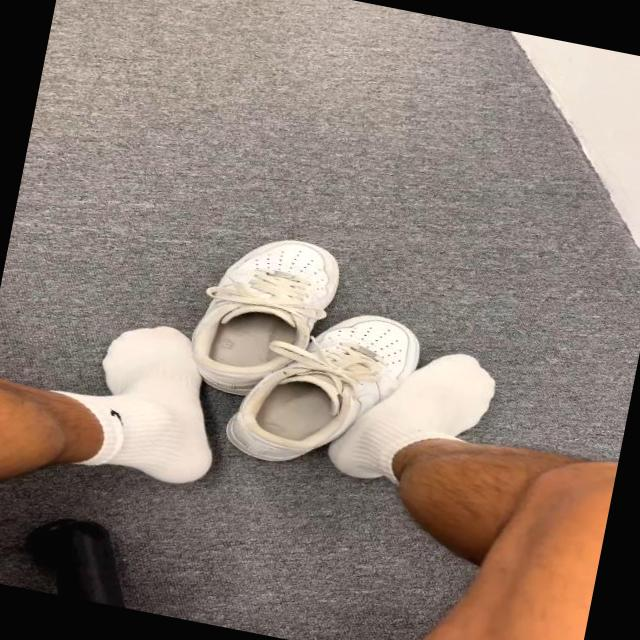nike_original_airforce: (223, 294, 434, 496), (178, 220, 354, 410)
